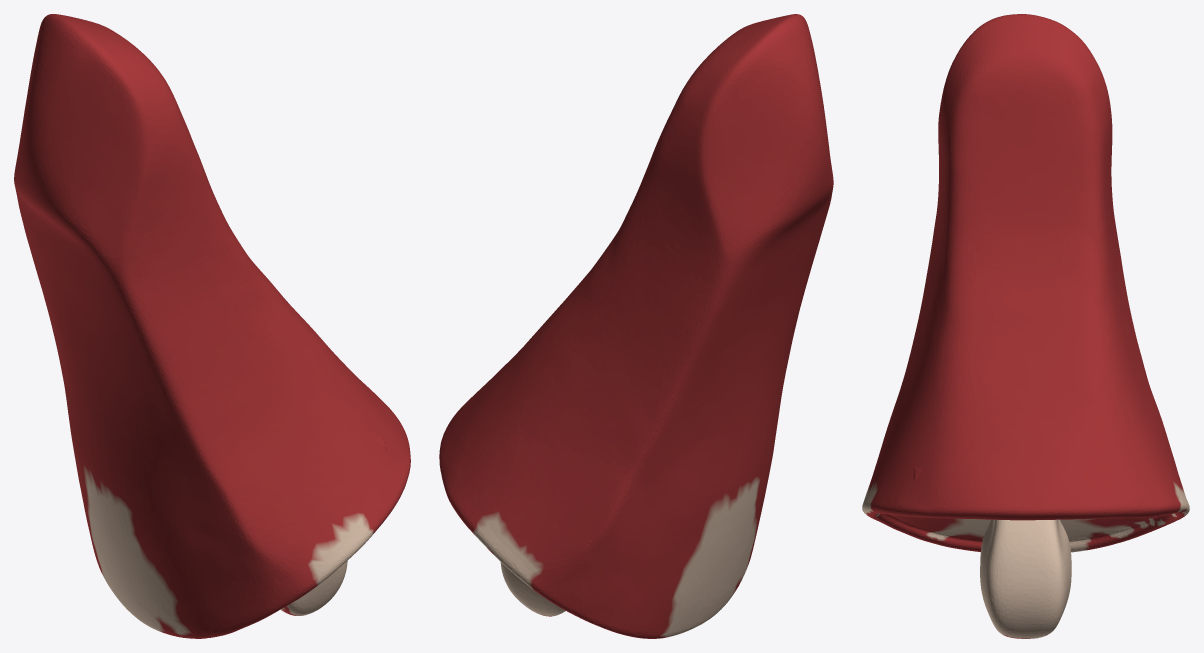
Rendered from arm_L.glb.
3 views of the same model, side by side, from view 1: azimuth 30°, elevation 25°; view 2: azimuth 150°, elevation 25°; view 3: azimuth 270°, elevation 25° (orthographic). The views are drawn at different scales.
Parts seen in each view (by area): view 1: geometry_0; view 2: geometry_0; view 3: geometry_0.
Boxes of the visible parts, <box> form: geometry_0: <box>14,14,410,638</box>; geometry_0: <box>439,14,833,638</box>; geometry_0: <box>862,14,1189,638</box>.
Size of the model in its own units: 0.2637 by 0.4636 by 0.2596.
